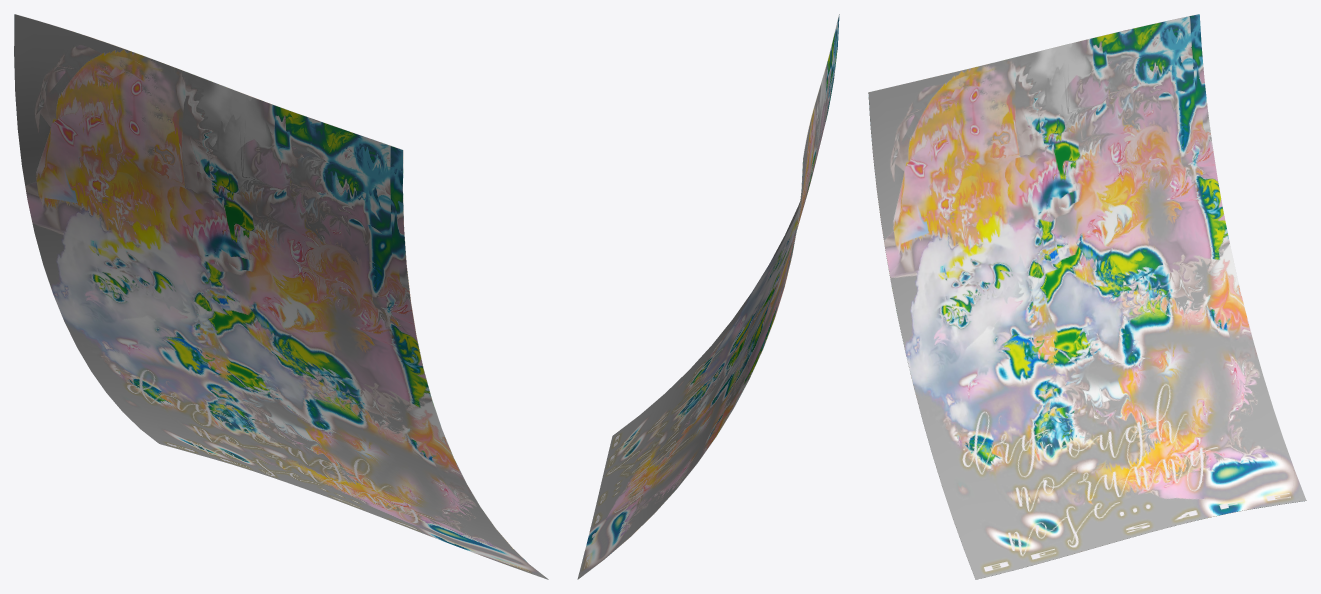
The model's file is besafe-flag.glb.
3 views of the same model, side by side, from view 1: azimuth 30°, elevation 25°; view 2: azimuth 150°, elevation 25°; view 3: azimuth 270°, elevation 25° (orthographic). The views are drawn at different scales.
Visible parts, largest first — view 1: Cube.1 (Copy); view 2: Cube.1 (Copy); view 3: Cube.1 (Copy).
Boxes of the visible parts, bbox=[...] form: Cube.1 (Copy): bbox=[14, 14, 548, 579]; Cube.1 (Copy): bbox=[577, 14, 839, 579]; Cube.1 (Copy): bbox=[868, 14, 1306, 579].
Size of the model in its own units: 279 by 380 by 357.
Materials: 1 (1 with a texture image).
